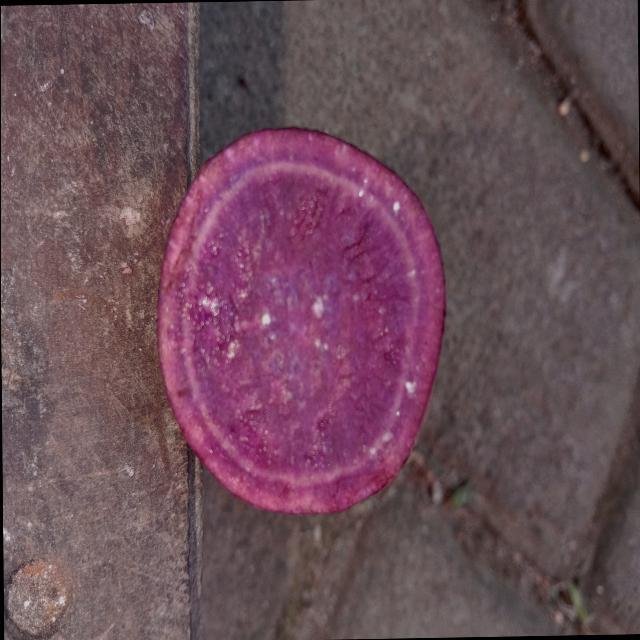Healthy Sweet Potato: (156, 128, 444, 513)
